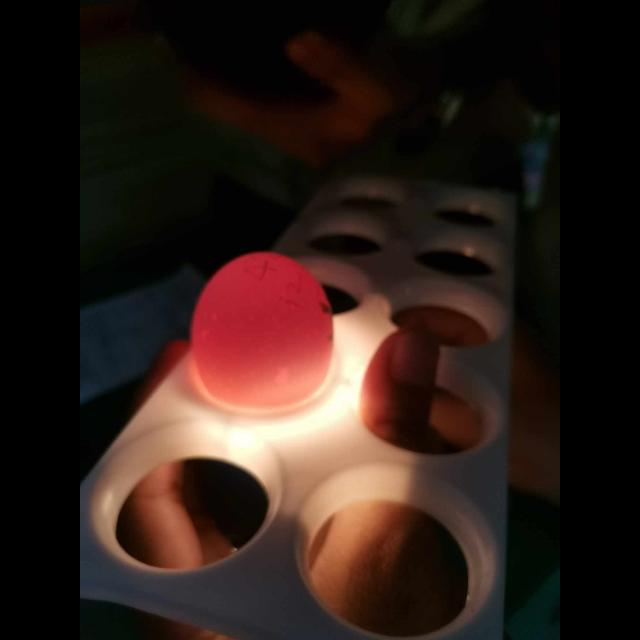Infertile: (193, 252, 331, 404)
